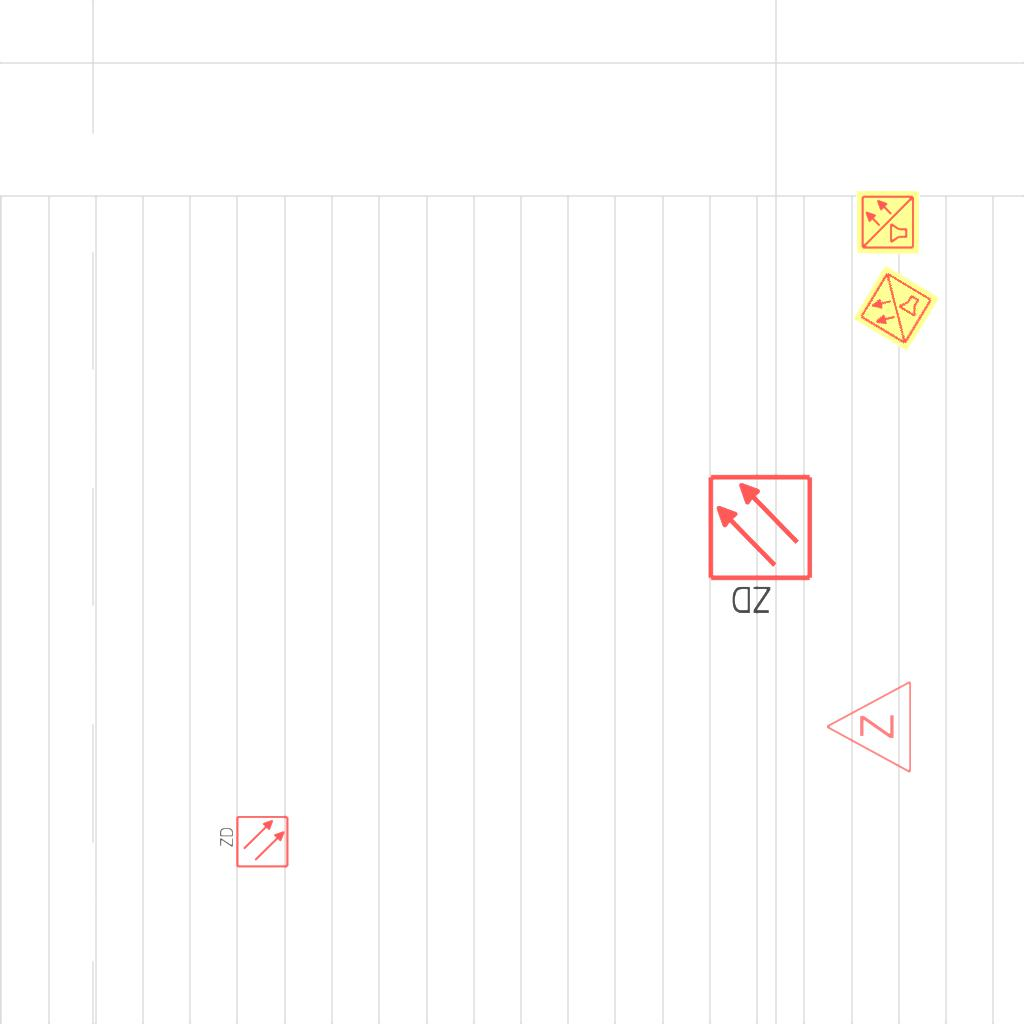OKW_Multisensormelder_(Kombination_optischer_Rauch-Kahlenmonoxid_Waerme-Melder): (850, 262, 942, 354), (855, 189, 921, 255)
ZD_Melder_in_Zwischendecke_mit_Revisionsoeffnung_mind_40_x_40_cm: (705, 472, 819, 621), (216, 814, 290, 871)
Zimmersignalleuchte: (819, 679, 919, 777)
